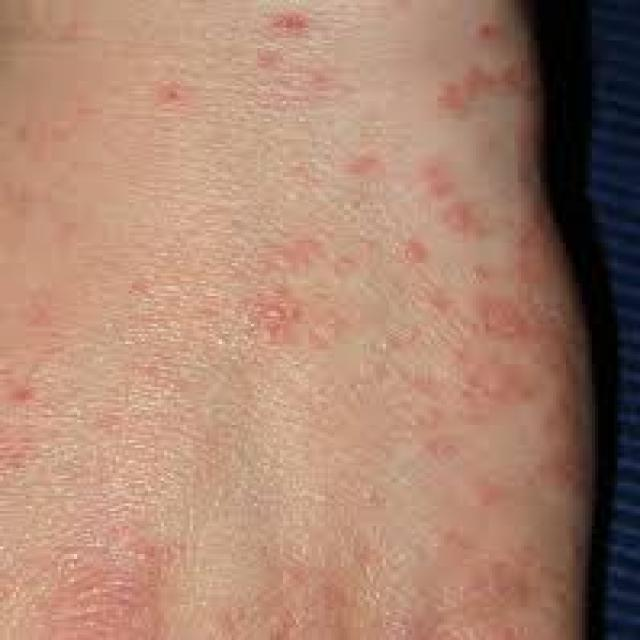kan emici bocekler: (1, 105, 140, 373), (398, 226, 556, 424), (409, 463, 577, 640), (37, 533, 169, 640), (431, 26, 528, 109), (252, 232, 316, 347), (258, 570, 358, 640), (186, 416, 266, 492), (426, 155, 495, 231), (246, 56, 347, 104), (1, 387, 54, 465), (156, 82, 196, 108), (344, 154, 387, 178), (279, 13, 315, 32)
